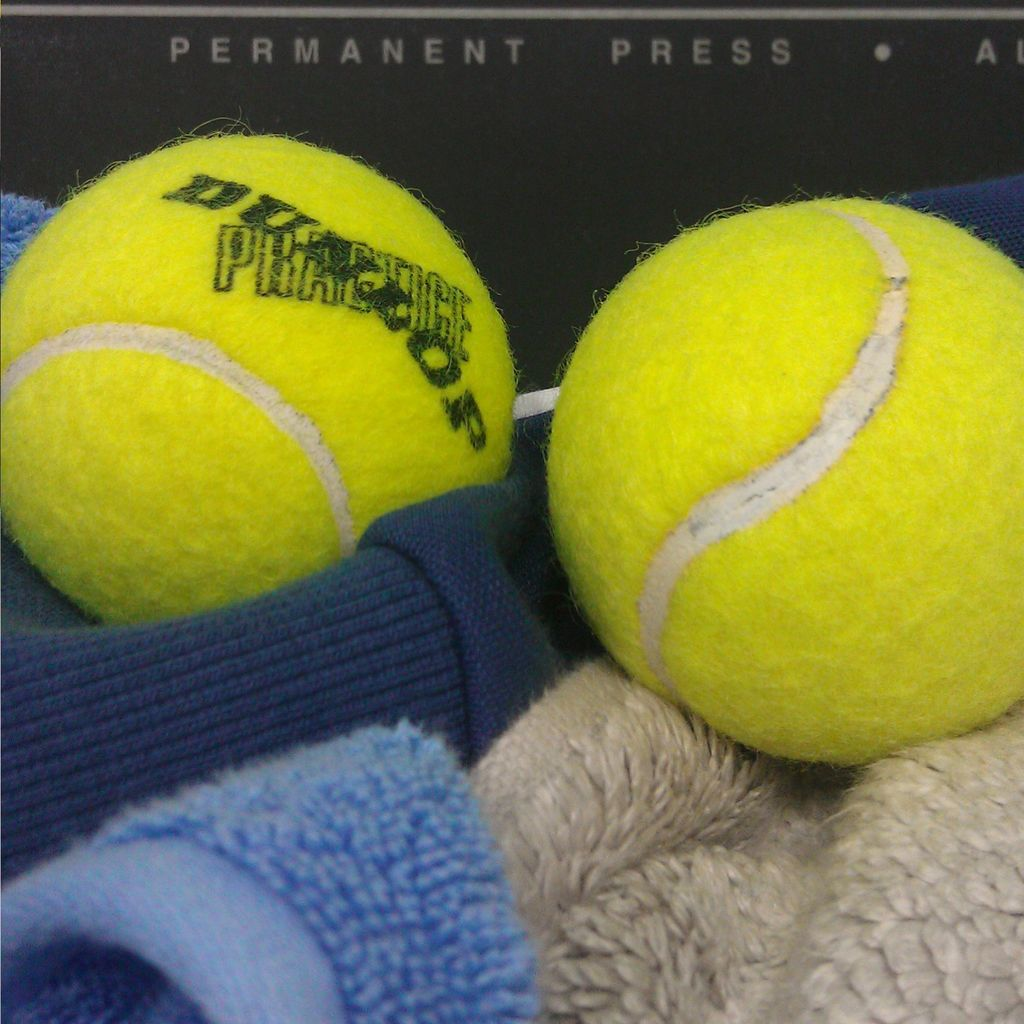aim: (545, 197, 1024, 762), (4, 134, 518, 643)
